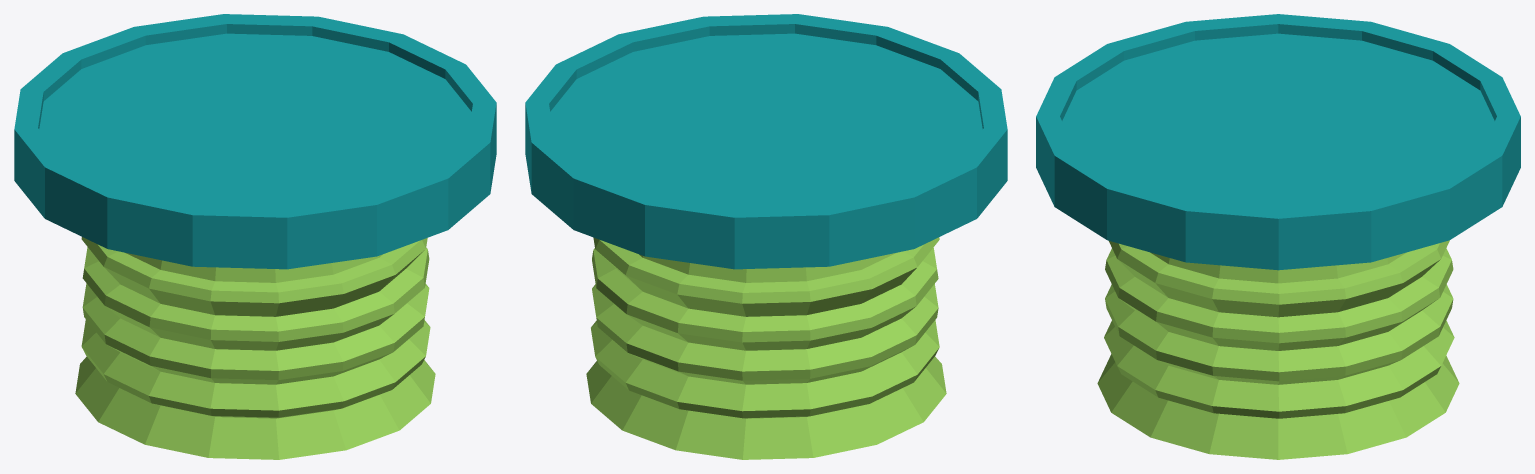
The model's file is Jumper.fbx.
3 renders of one model, left to right at view 1: azimuth 30°, elevation 25°; view 2: azimuth 150°, elevation 25°; view 3: azimuth 270°, elevation 25°, orthographic.
Parts seen in each view (by area): view 1: Jumper; view 2: Jumper; view 3: Jumper.
Part boxes in pixels (box(x1,y1,x2,y2)): Jumper: box(14, 14, 496, 459); Jumper: box(525, 14, 1007, 459); Jumper: box(1036, 14, 1520, 459).
Size of the model in its own units: 66.93 by 40.68 by 66.93.
